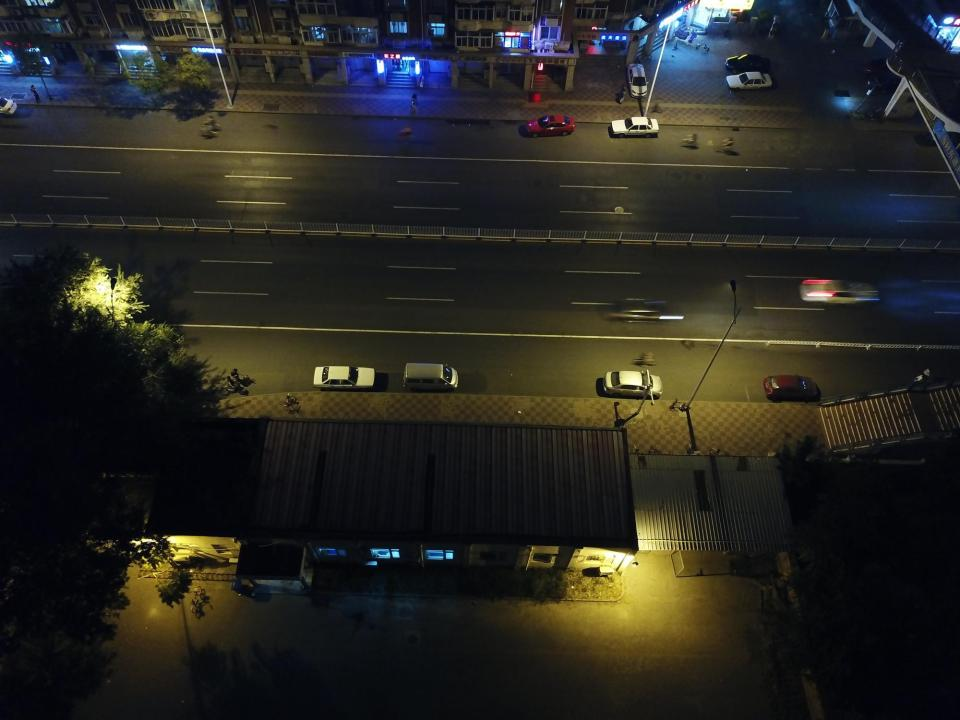car: (799, 277, 880, 306), (602, 298, 682, 324), (602, 371, 663, 399), (312, 364, 376, 390), (763, 374, 817, 400), (526, 114, 576, 138), (726, 70, 773, 91), (612, 116, 660, 136), (726, 54, 774, 73), (627, 62, 649, 98), (0, 96, 17, 115)
van: (403, 363, 458, 391)
